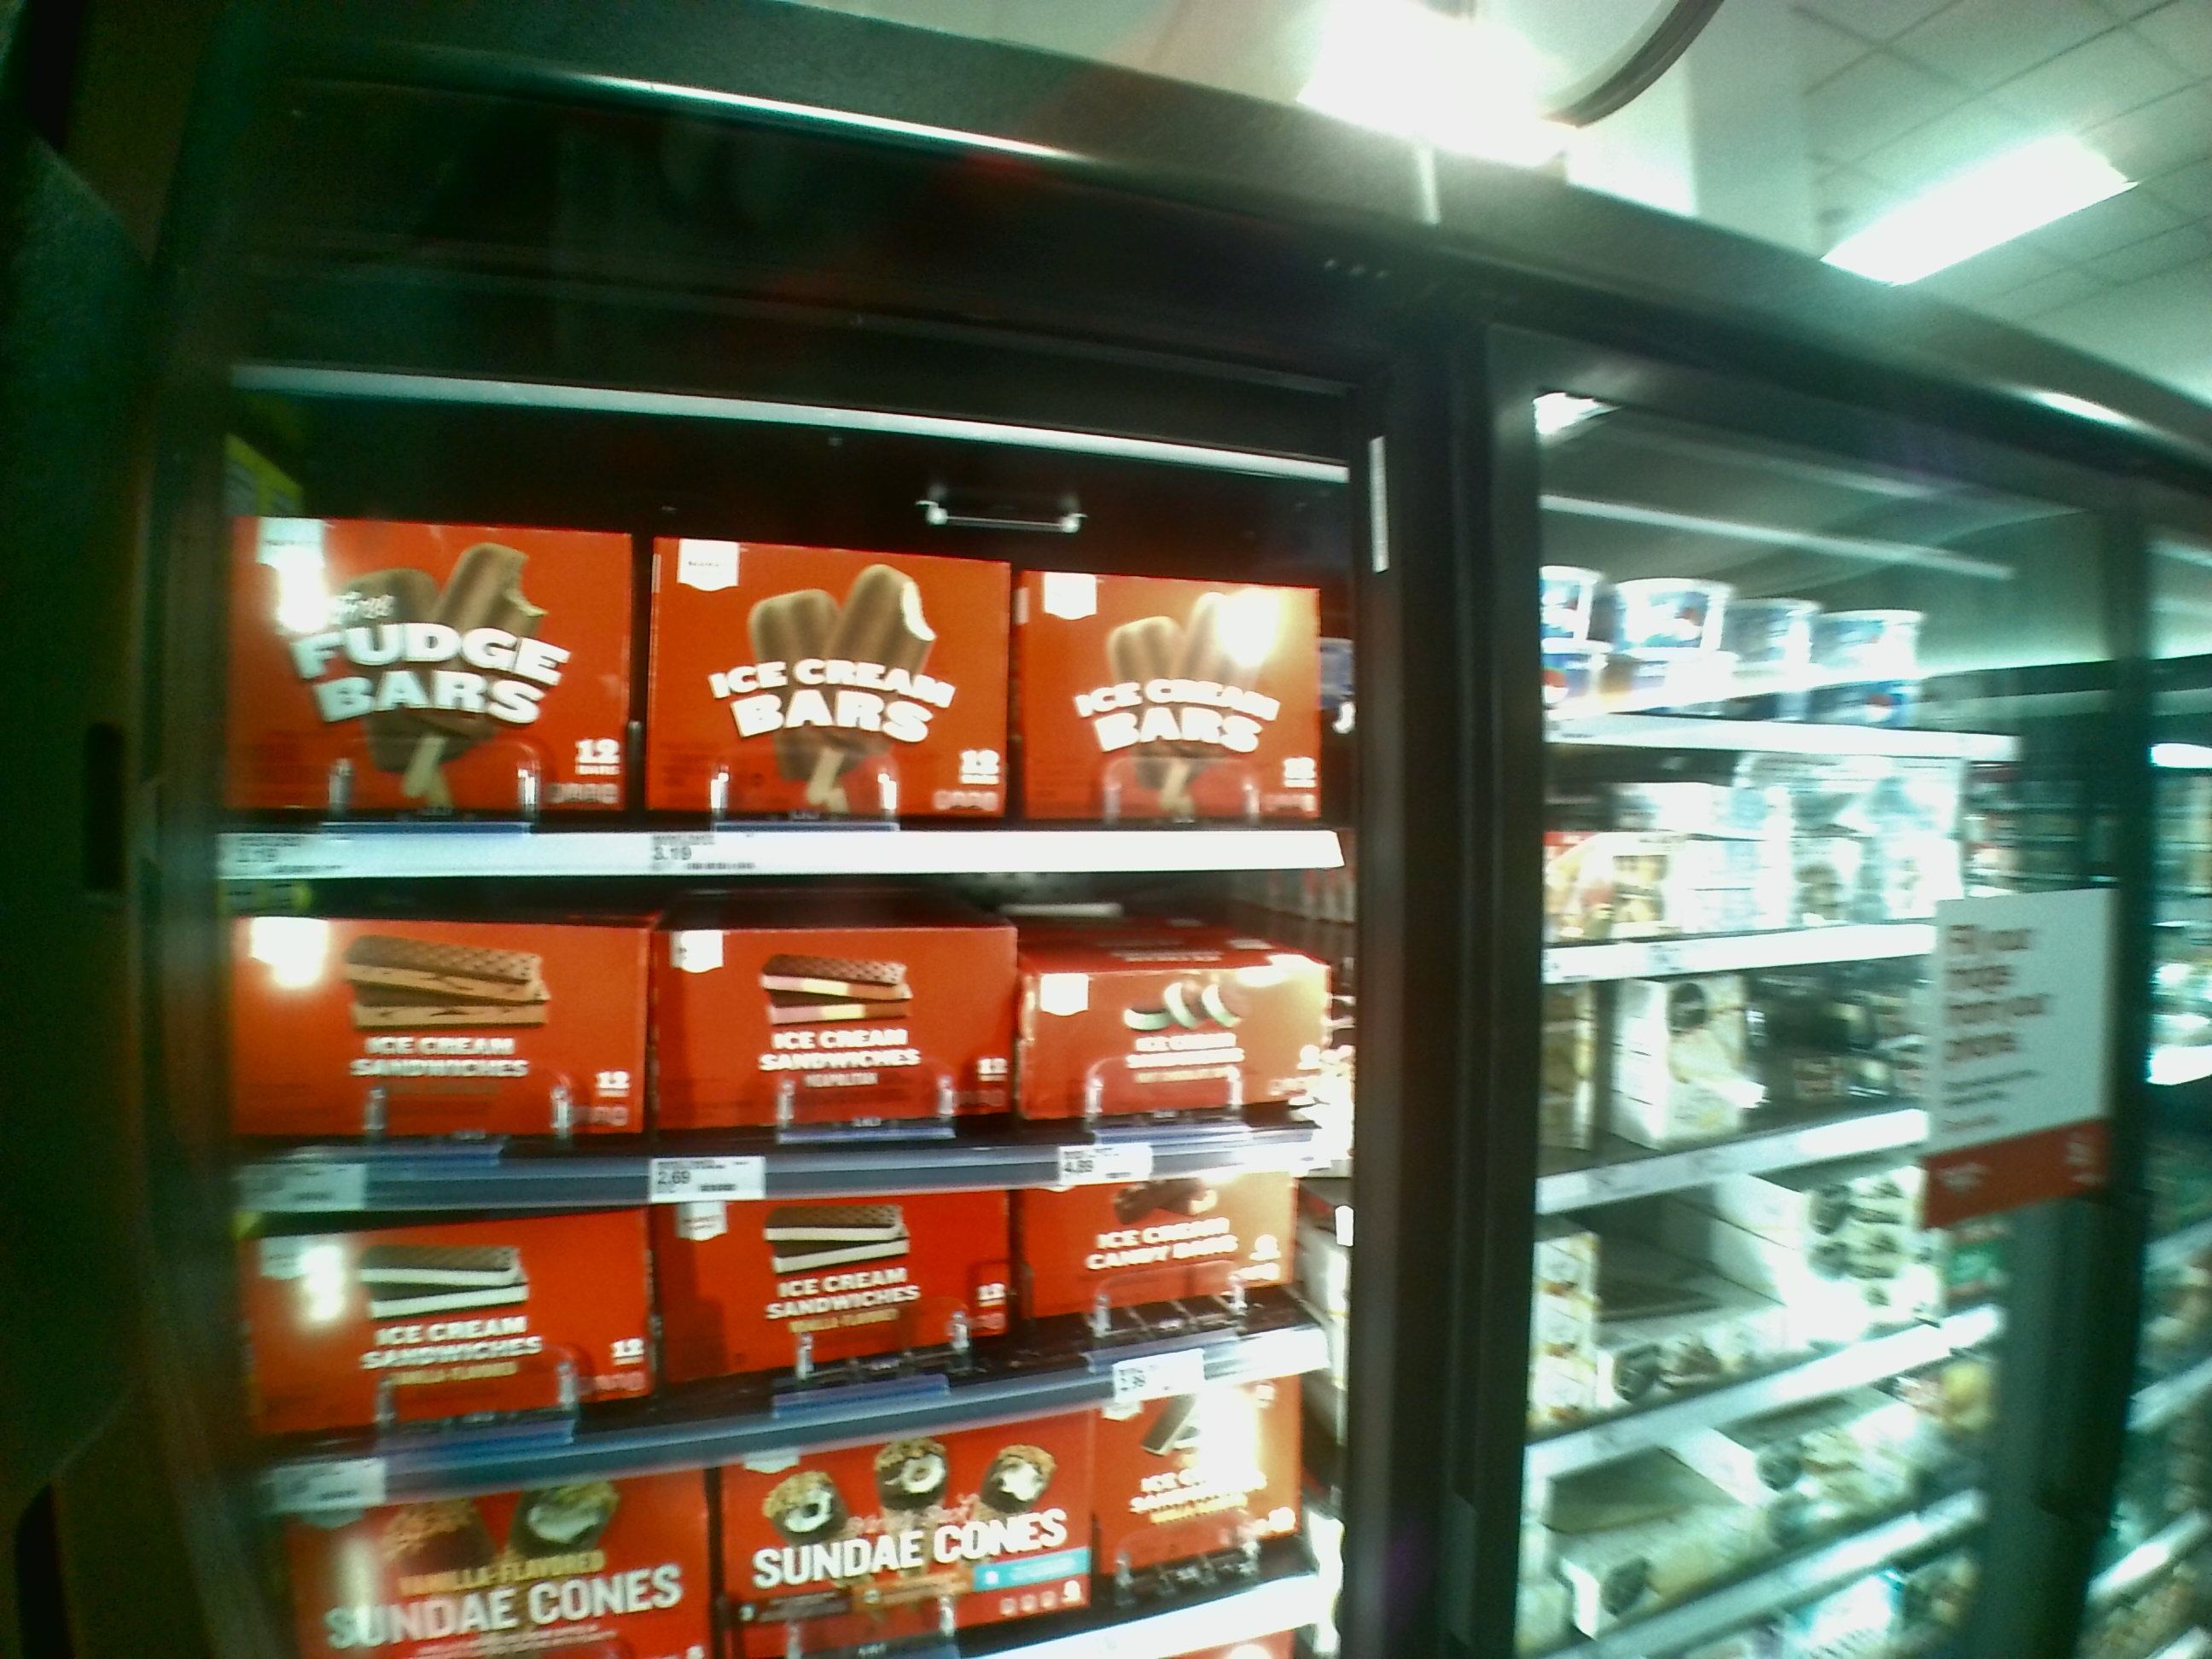shelf: (216, 416, 1362, 871), (223, 873, 1338, 1185), (240, 1202, 1331, 1443)
